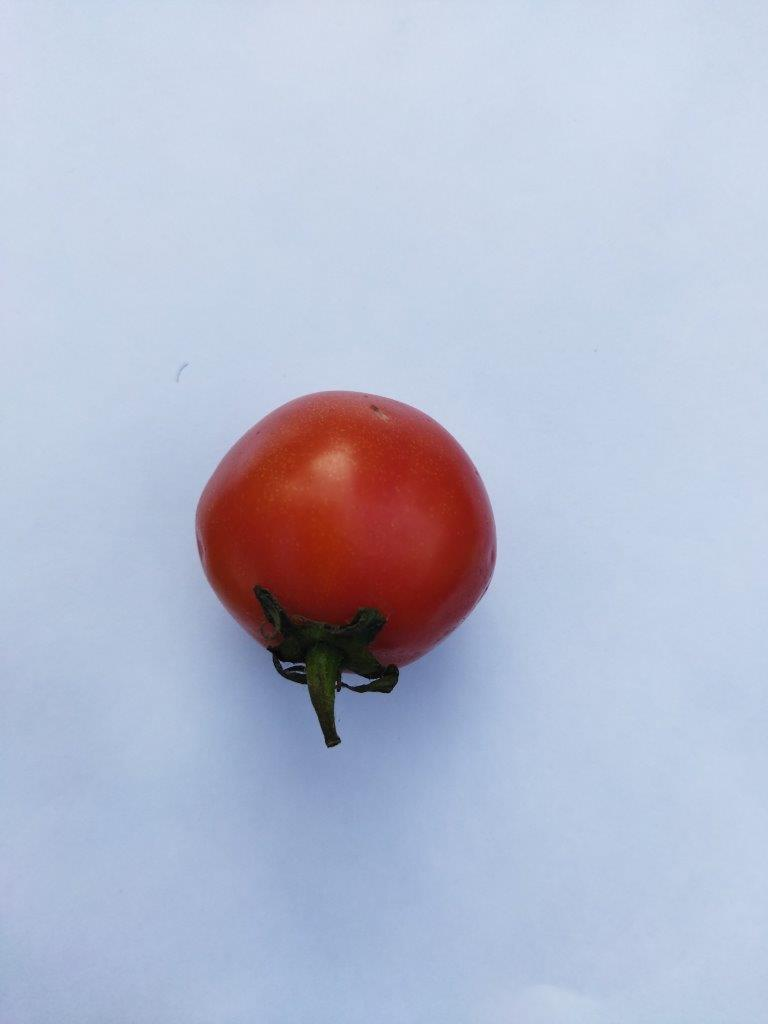tomato: (197, 391, 495, 745)
